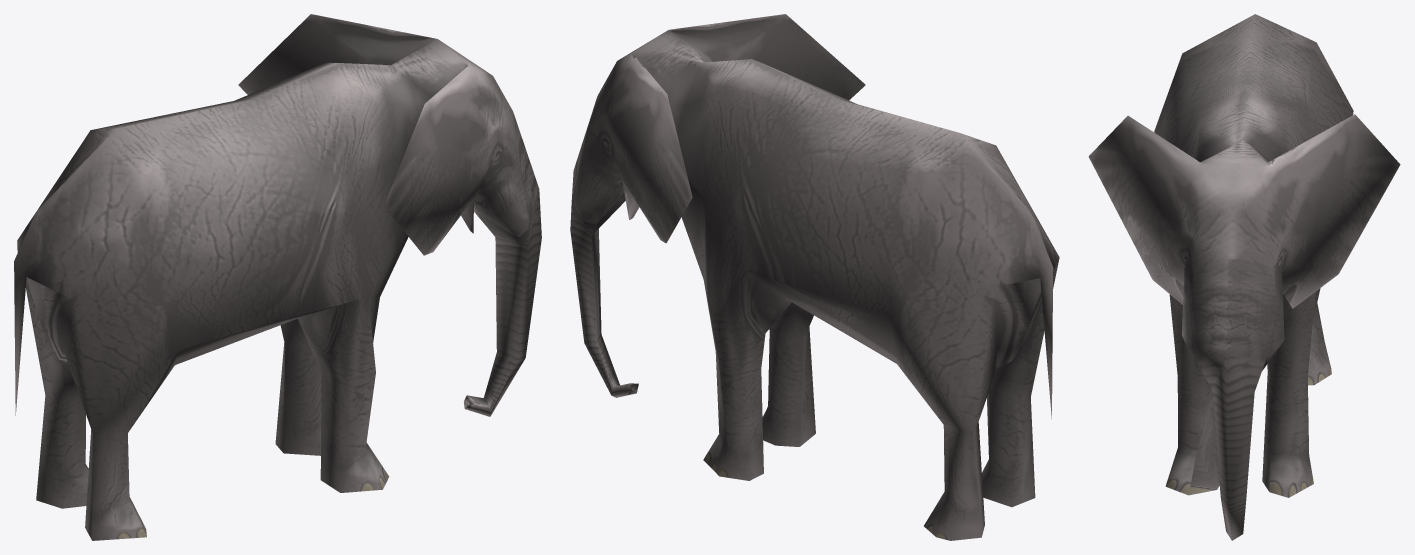
File: M_daxiang01.FBX
3 renders of one model, left to right at view 1: azimuth 30°, elevation 25°; view 2: azimuth 150°, elevation 25°; view 3: azimuth 270°, elevation 25°, orthographic. The views are drawn at different scales.
Visible parts, largest first — view 1: M_daxiang01; view 2: M_daxiang01; view 3: M_daxiang01.
Part boxes in pixels (x1=…): M_daxiang01: x1=14, y1=14, x2=541, y2=540; M_daxiang01: x1=570, y1=14, x2=1059, y2=540; M_daxiang01: x1=1088, y1=14, x2=1400, y2=540.
Size of the model in its own units: 0.9866 by 0.7374 by 0.5404.
